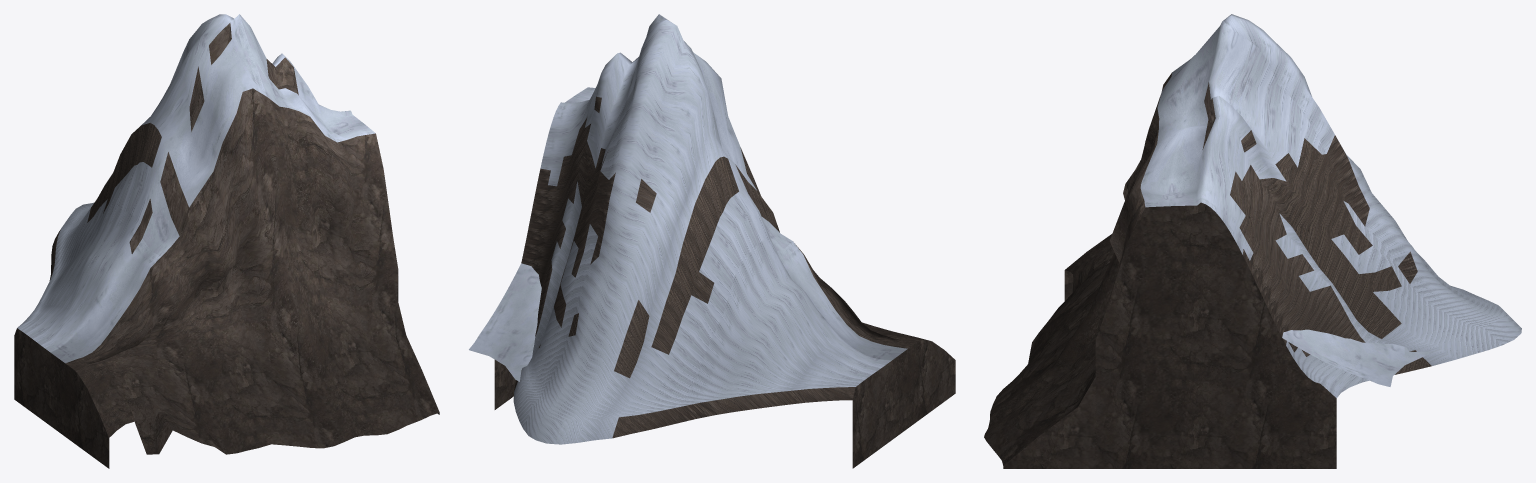
Rendered from seacliff_endcap_left_h3_a_v5_winter.glb.
3 views of the same model, side by side, from view 1: azimuth 30°, elevation 25°; view 2: azimuth 150°, elevation 25°; view 3: azimuth 270°, elevation 25° (orthographic). The views are drawn at different scales.
Visible parts, largest first — view 1: seacliff_endcap_left_h3_a; view 2: seacliff_endcap_left_h3_a; view 3: seacliff_endcap_left_h3_a.
Part boxes in pixels (x1,y1,x2,y2): seacliff_endcap_left_h3_a: (14, 14, 439, 468); seacliff_endcap_left_h3_a: (469, 14, 955, 468); seacliff_endcap_left_h3_a: (984, 14, 1521, 468).
Bounding box in the file's own units: 6 × 6.69 × 8.29.
Materials: 2 (2 with a texture image).
